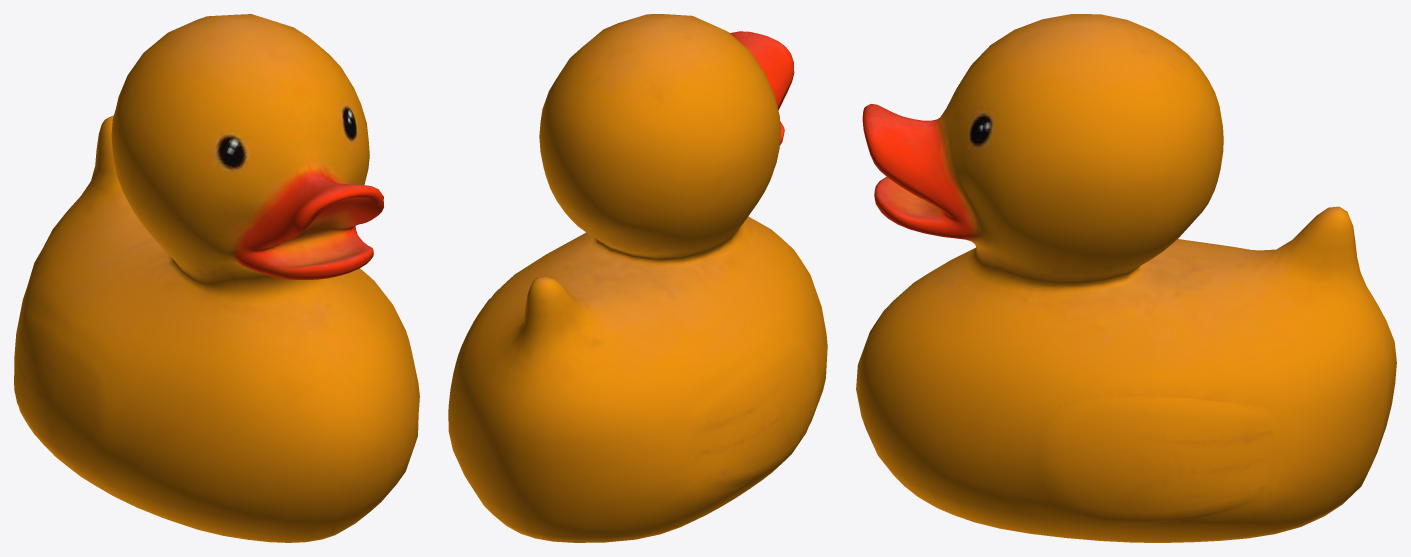
Rendered from rubber_duck_toy.glb.
The picture shows the model from 3 angles, left to right: view 1: azimuth 30°, elevation 25°; view 2: azimuth 150°, elevation 25°; view 3: azimuth 270°, elevation 25°; orthographic projection. The views are drawn at different scales.
Visible parts, largest first — view 1: rubber_duck_toy; view 2: rubber_duck_toy; view 3: rubber_duck_toy.
Part boxes in pixels (x1=…): rubber_duck_toy: x1=14, y1=14, x2=419, y2=542; rubber_duck_toy: x1=448, y1=14, x2=827, y2=542; rubber_duck_toy: x1=856, y1=14, x2=1396, y2=542.
Bounding box in the file's own units: 0.2135 × 0.2855 × 0.3.
Materials: 1 (1 with a texture image).
